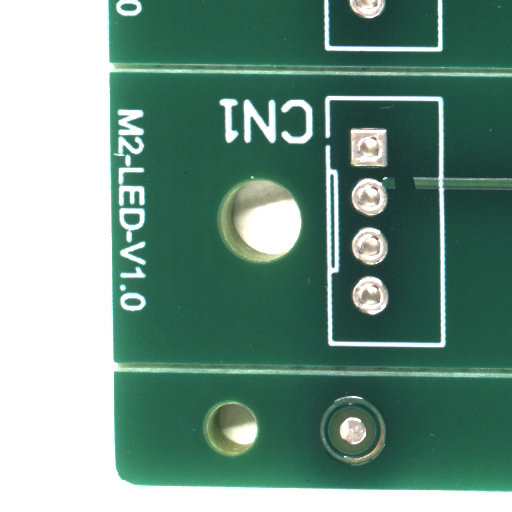Open_circuit: (405, 183, 428, 200)
